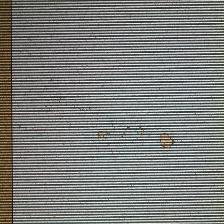BLOCK ETCH: (96, 124, 178, 153)
